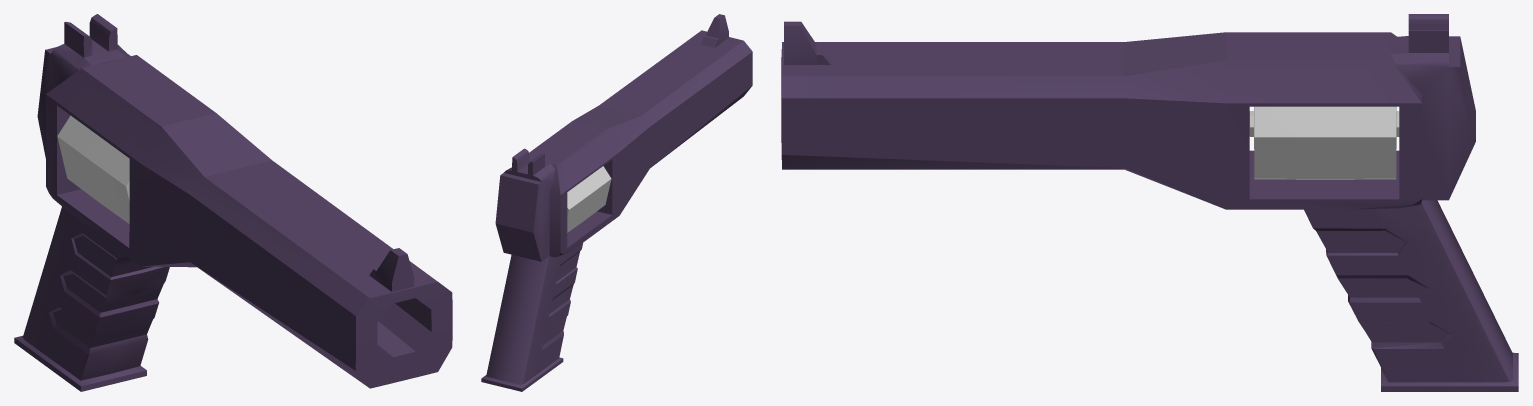
The model's file is revolver.obj.
The picture shows the model from 3 angles, left to right: view 1: azimuth 30°, elevation 25°; view 2: azimuth 150°, elevation 25°; view 3: azimuth 270°, elevation 25°; orthographic projection. The views are drawn at different scales.
Parts seen in each view (by area): view 1: Cube, Cube.004, Cylinder, Cube.003, Cube.002; view 2: Cube, Cube.004, Cube.003, Cylinder, Cube.002; view 3: Cube, Cube.004, Cylinder, Cube.003, Cube.002.
Part boxes in pixels (left/top/right/bottom): Cube: left=46, top=55, right=452, bottom=388; Cube.004: left=14, top=206, right=169, bottom=391; Cylinder: left=57, top=115, right=129, bottom=223; Cube.003: left=37, top=14, right=130, bottom=158; Cube.002: left=369, top=248, right=414, bottom=291; Cube: left=529, top=30, right=752, bottom=257; Cube.004: left=481, top=243, right=582, bottom=391; Cube.003: left=495, top=148, right=554, bottom=261; Cylinder: left=567, top=166, right=611, bottom=232; Cube.002: left=701, top=14, right=728, bottom=47; Cube: left=781, top=32, right=1421, bottom=209; Cube.004: left=1304, top=200, right=1518, bottom=391; Cylinder: left=1249, top=106, right=1399, bottom=179; Cube.003: left=1390, top=14, right=1475, bottom=200; Cube.002: left=784, top=21, right=830, bottom=64.
Bounding box in the file's own units: 0.8652 × 2.85 × 5.37.
